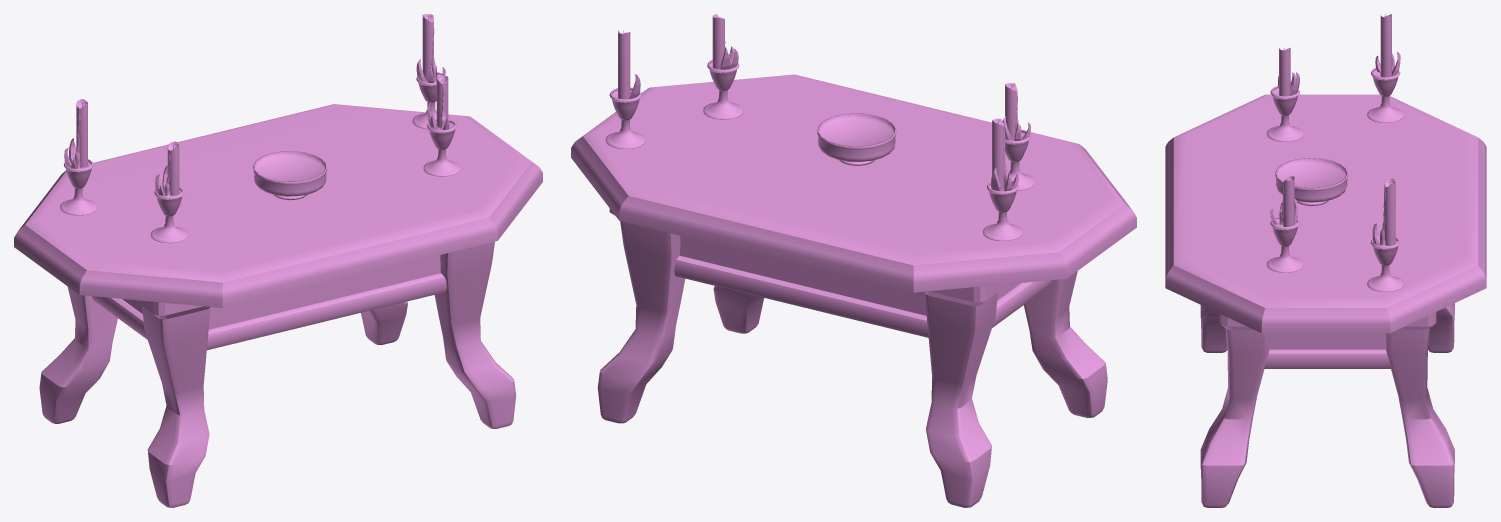
File: altar_table.fbx
3 renders of one model, left to right at view 1: azimuth 30°, elevation 25°; view 2: azimuth 150°, elevation 25°; view 3: azimuth 270°, elevation 25°, orthographic. The views are drawn at different scales.
Visible parts, largest first — view 1: polySurface158; view 2: polySurface158; view 3: polySurface158.
Part boxes in pixels (left/top/right/bottom): polySurface158: left=14, top=14, right=542, bottom=507; polySurface158: left=571, top=14, right=1136, bottom=507; polySurface158: left=1165, top=14, right=1486, bottom=507.
Size of the model in its own units: 1.86 by 1.3 by 1.14.
